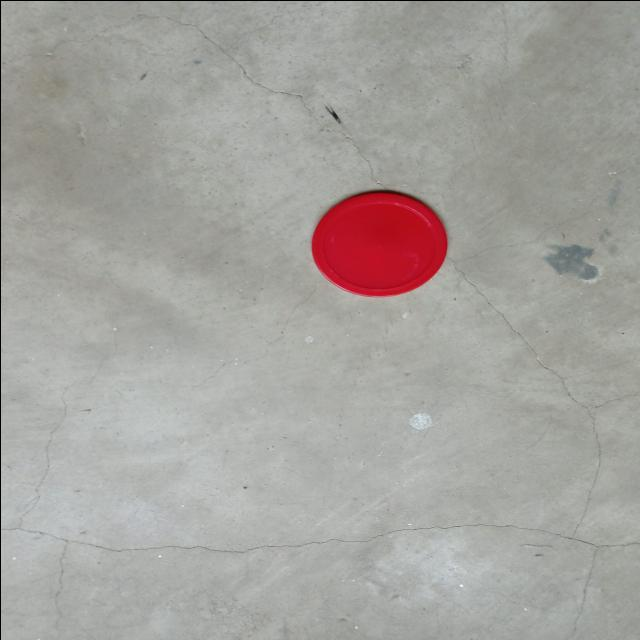chip: (307, 191, 448, 297)
